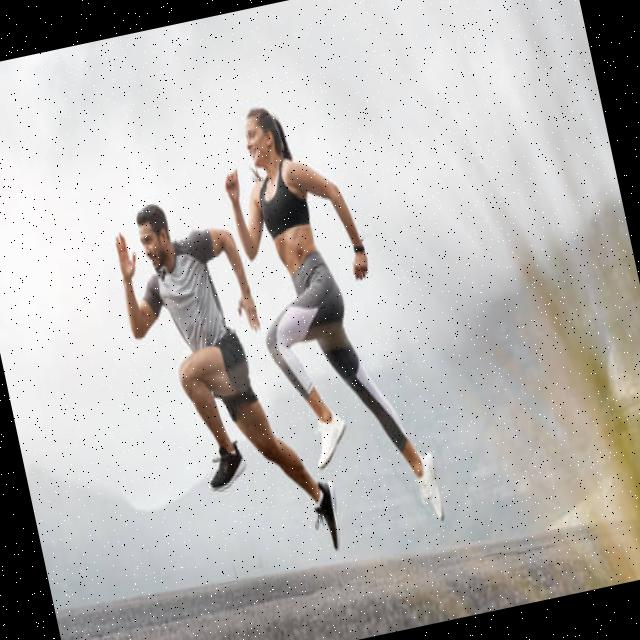Person: (211, 86, 447, 550), (106, 177, 347, 580)
